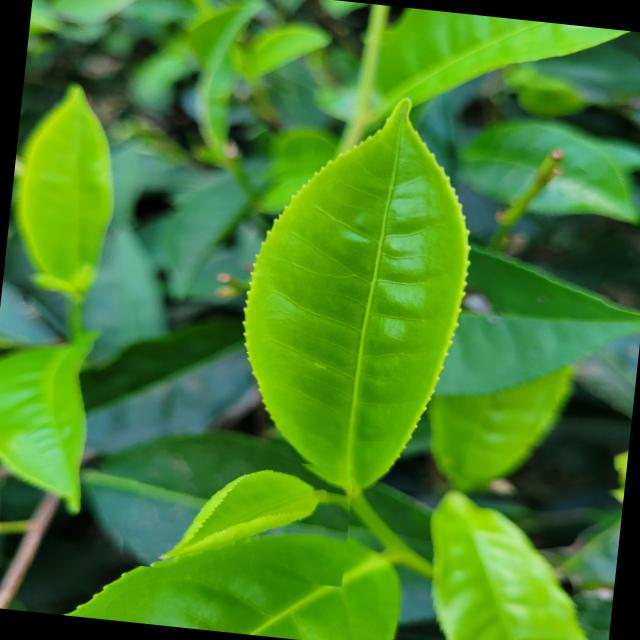Catagory A(1-2 days): (113, 438, 354, 586)
